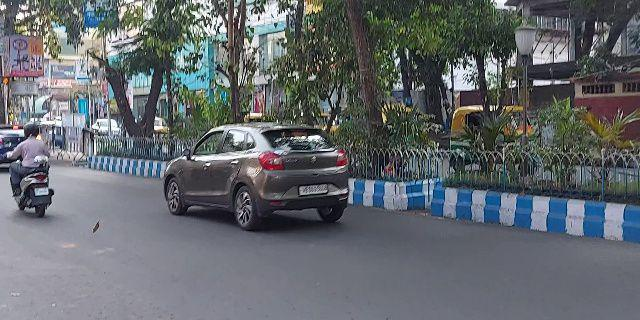Car: (160, 120, 352, 235)
Motorbike: (8, 119, 54, 223)
